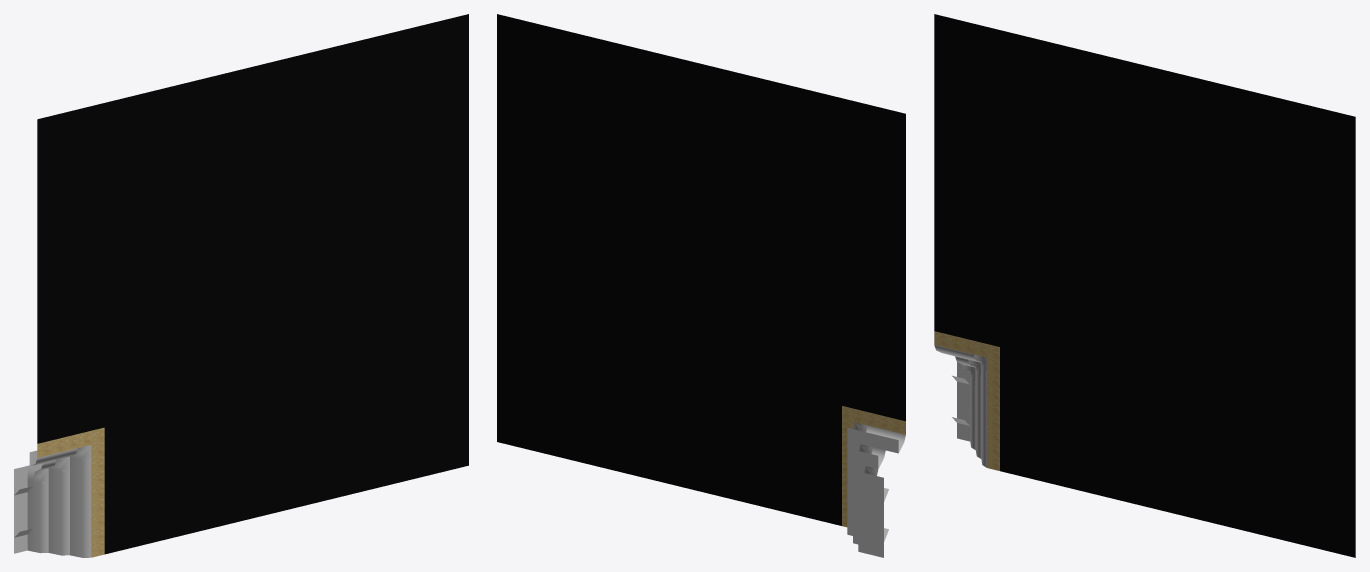
File: Uluru-Cave-2_03_00.obj
3 renders of one model, left to right at view 1: azimuth 30°, elevation 25°; view 2: azimuth 150°, elevation 25°; view 3: azimuth 330°, elevation 25°, orthographic. The views are drawn at different scales.
Visible parts, largest first — view 1: map; view 2: map; view 3: map.
Boxes of the visible parts, x1,y1,x2,y2 form: map: [14, 14, 468, 557]; map: [497, 14, 905, 557]; map: [934, 14, 1355, 557].
Size of the model in its own units: 32 by 32 by 3.
